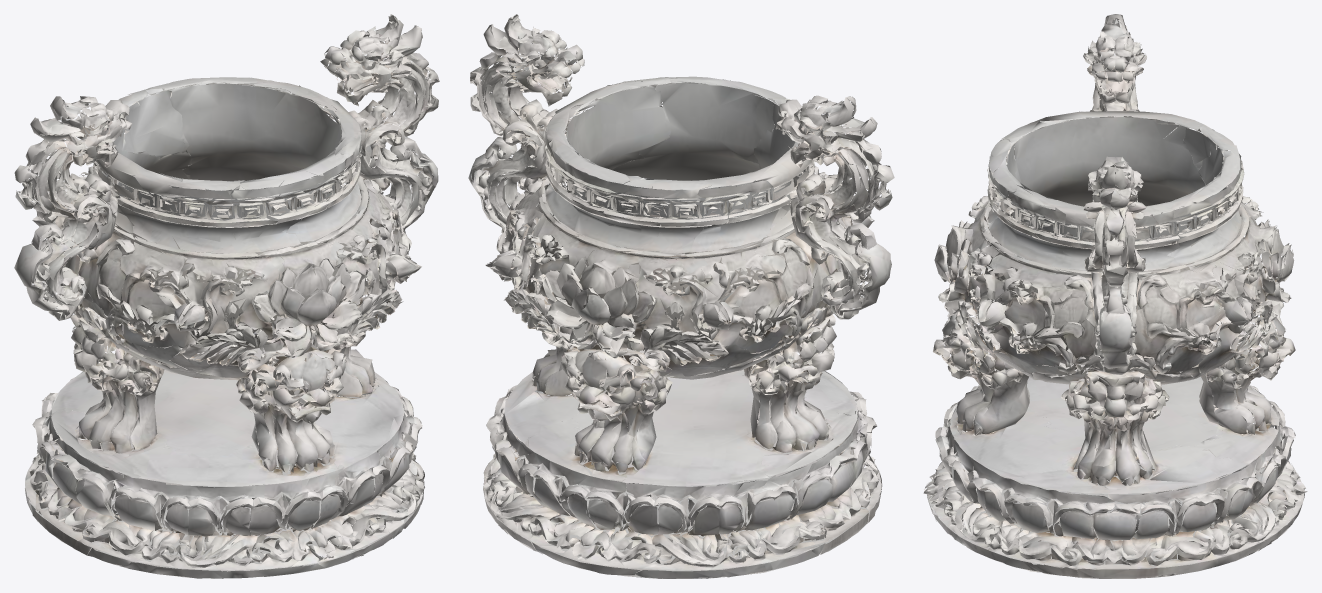
3 views of the same model, side by side, from view 1: azimuth 30°, elevation 25°; view 2: azimuth 150°, elevation 25°; view 3: azimuth 270°, elevation 25° (orthographic). The views are drawn at different scales.
Parts seen in each view (by area): view 1: model; view 2: model; view 3: model.
Boxes of the visible parts, bbox=[...] form: model: bbox=[14, 14, 439, 578]; model: bbox=[468, 14, 894, 578]; model: bbox=[923, 14, 1307, 578].
Size of the model in its own units: 1.59 by 1.6 by 1.35.
1 material, 1 textured.
